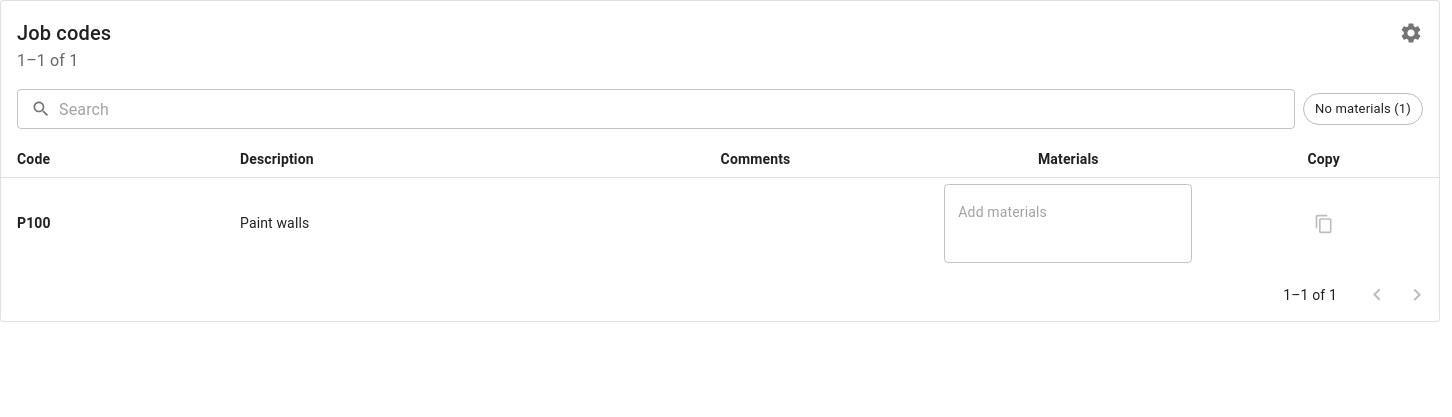
column visibility › hides the description column when Description is unchecked
The image size is (1452, 417).
Click the button named "Columns": x=1411, y=33 [1391, 13, 1431, 53]
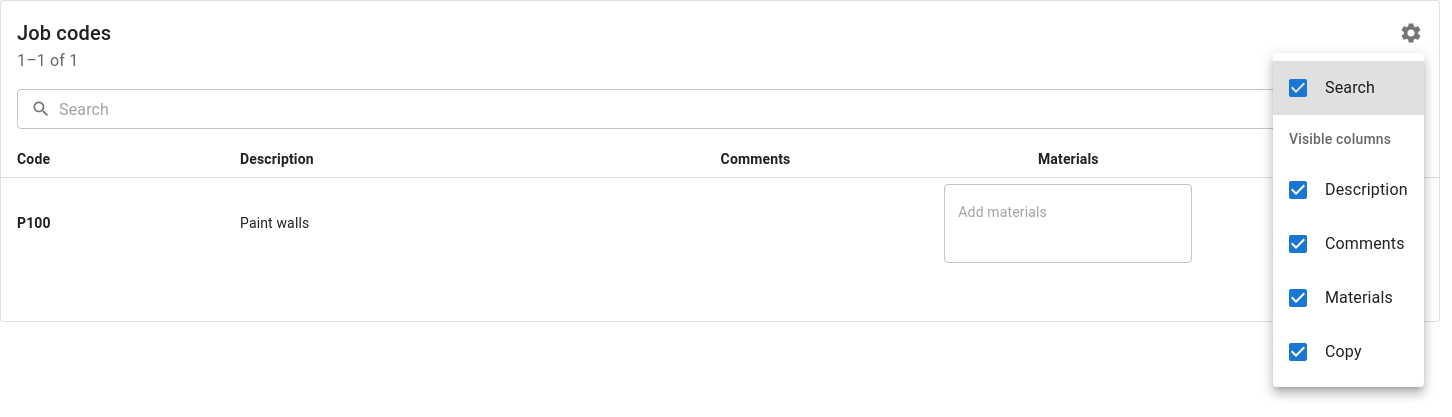
Click the menu item "Description": x=1347, y=190 [1286, 178, 1408, 202]
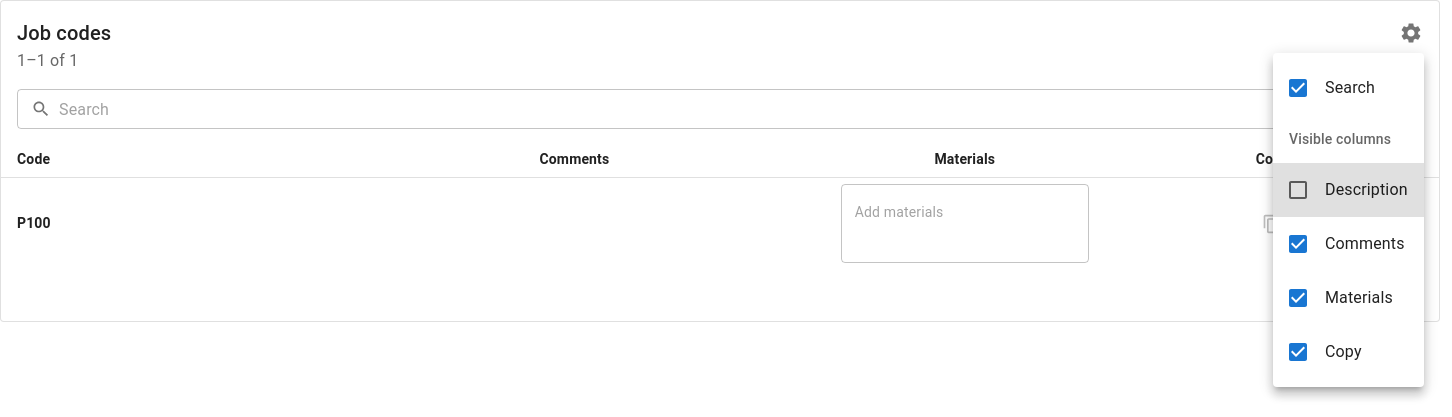
Check: the text "P100" is shown, box [1, 178, 324, 269]
Check: the text "Paint walls" is gone
